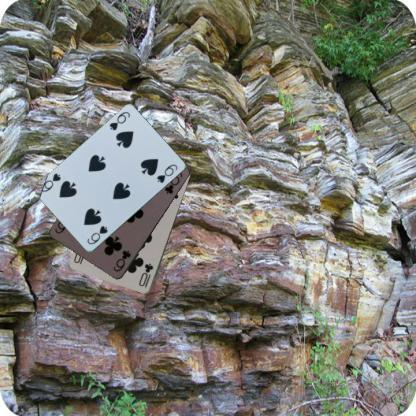10c: (136, 260, 154, 289)
6c: (111, 248, 132, 273)
6s: (84, 223, 110, 246), (107, 110, 131, 132)
